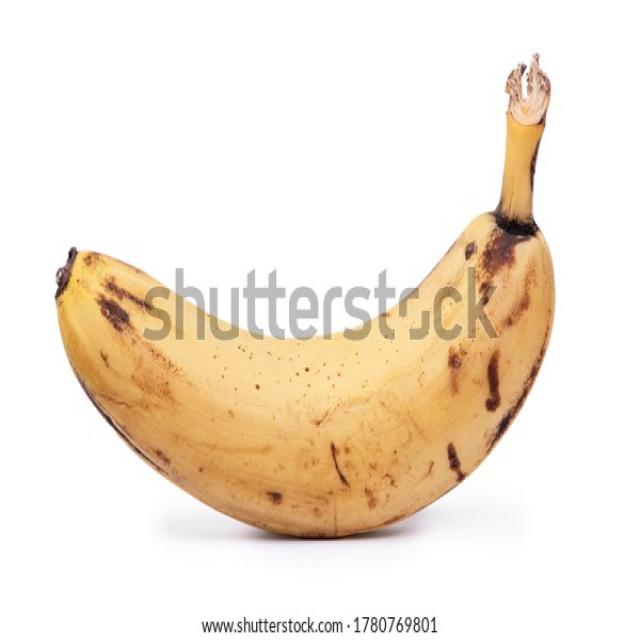Banana: (51, 68, 558, 537)
